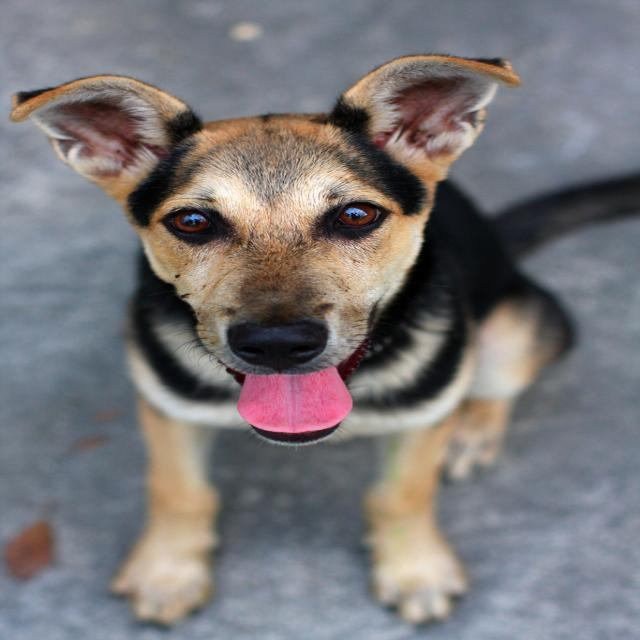Dog: (3, 58, 638, 628)
